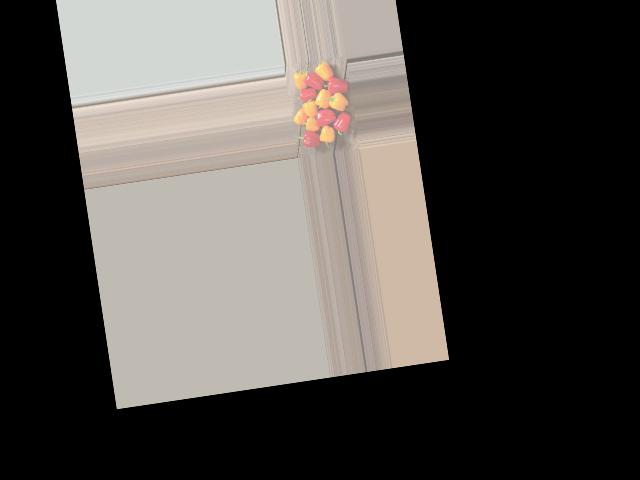bell_pepper: (314, 59, 338, 87)
